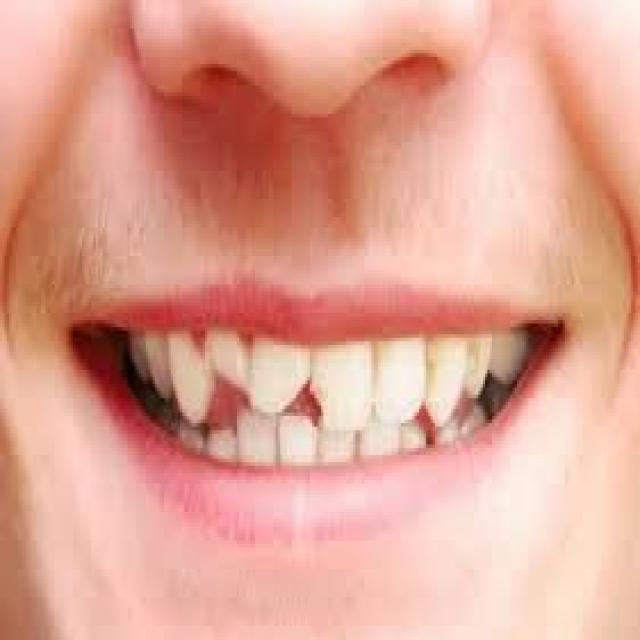tooth: (316, 345, 374, 423), (253, 345, 305, 409), (381, 341, 422, 416), (173, 338, 207, 416), (428, 341, 462, 416), (241, 416, 278, 469), (216, 331, 248, 391), (471, 334, 492, 395), (285, 420, 312, 462), (155, 331, 168, 405), (319, 434, 353, 462), (128, 342, 148, 388), (499, 331, 519, 377), (212, 430, 237, 462), (364, 430, 398, 452), (178, 430, 207, 455)
